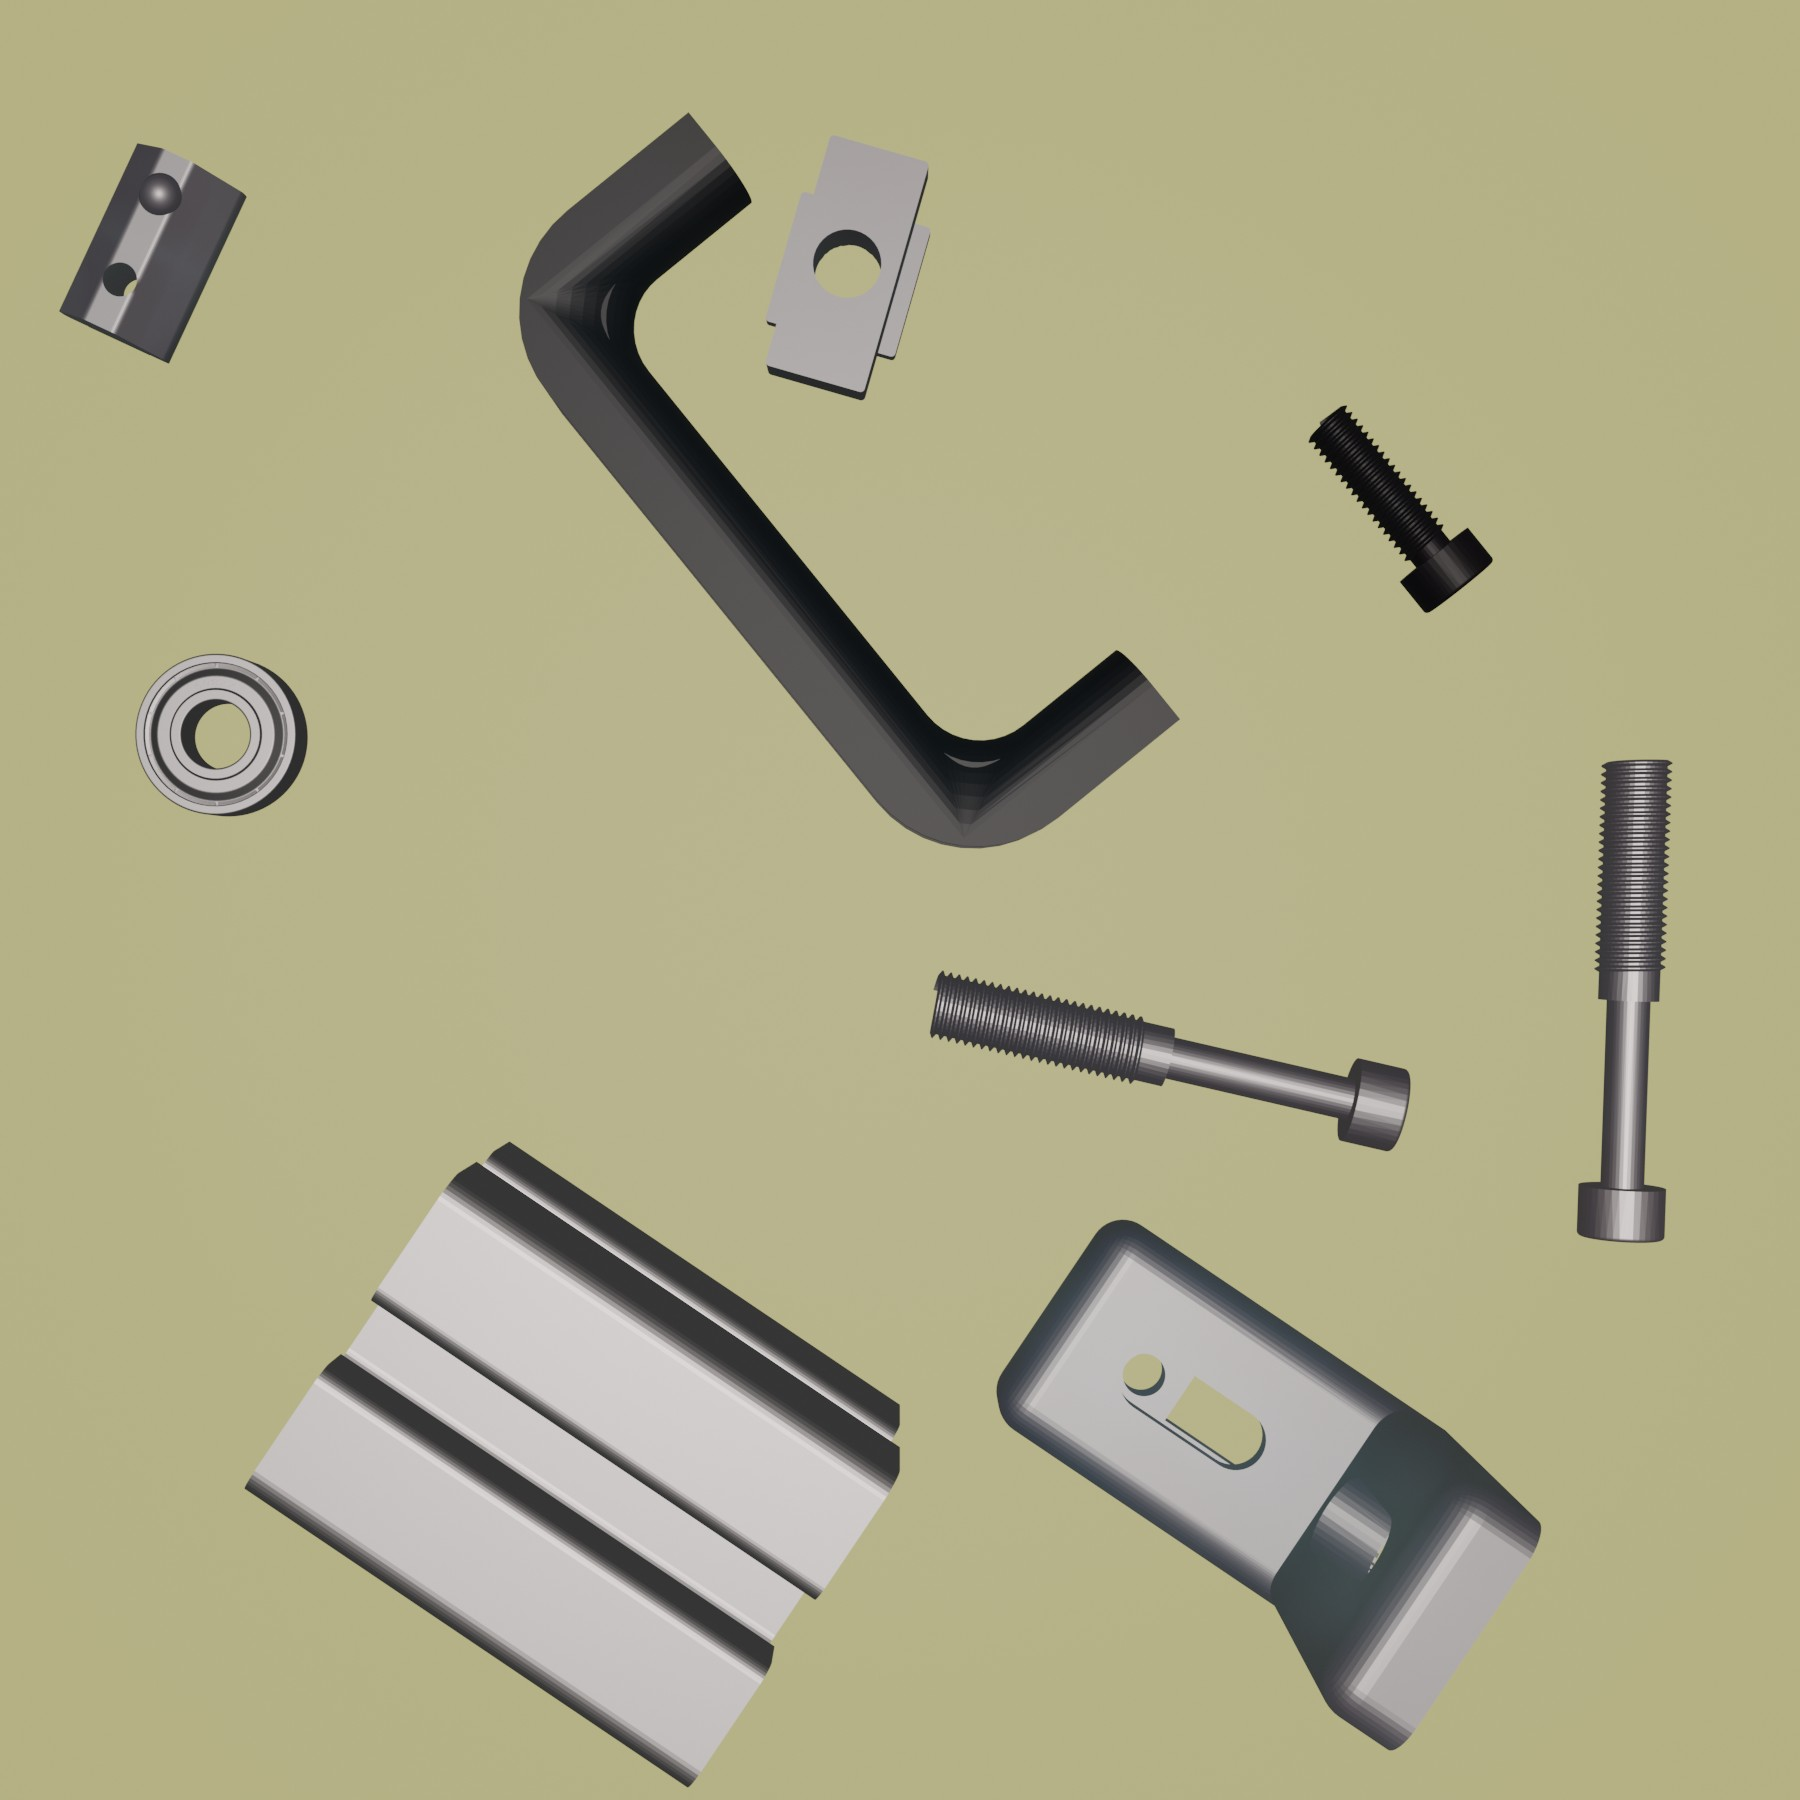Aluminium Extension: (239, 1136, 905, 1793)
Ball Bearing: (132, 649, 312, 818)
Multiwinkel: (992, 1216, 1543, 1754)
Pull Handle: (518, 109, 1180, 851)
Shoulder Socket Head Cap Screw: (923, 963, 1413, 1152), (1573, 753, 1676, 1246)
Socket Head Cap Screw: (1302, 402, 1497, 616)
T Nut Square: (758, 132, 935, 402)
T Spring Nut: (54, 138, 251, 366)
